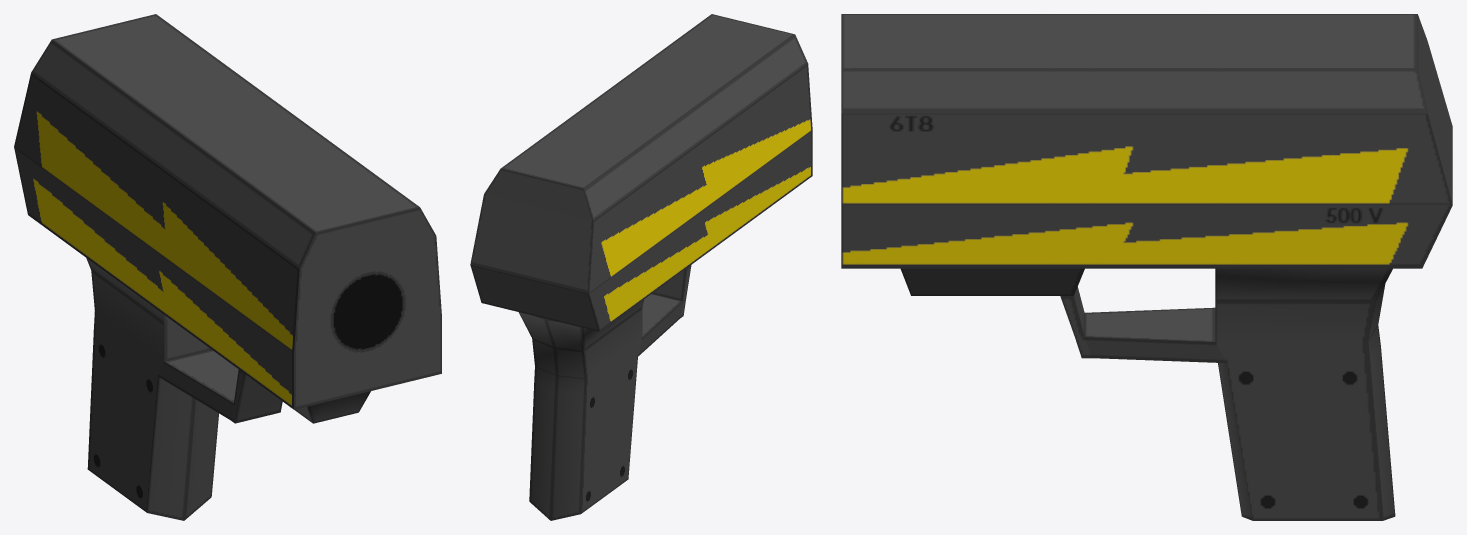
File: StunGun.FBX
3 views of the same model, side by side, from view 1: azimuth 30°, elevation 25°; view 2: azimuth 150°, elevation 25°; view 3: azimuth 270°, elevation 25° (orthographic). The views are drawn at different scales.
Visible parts, largest first — view 1: Box001; view 2: Box001; view 3: Box001.
Boxes of the visible parts, left/top/right/bottom form: Box001: left=14, top=14, right=441, bottom=520; Box001: left=470, top=14, right=812, bottom=520; Box001: left=841, top=14, right=1452, bottom=520.
Bounding box in the file's own units: 2.13 × 5.98 × 6.98.
1 material, 1 textured.
